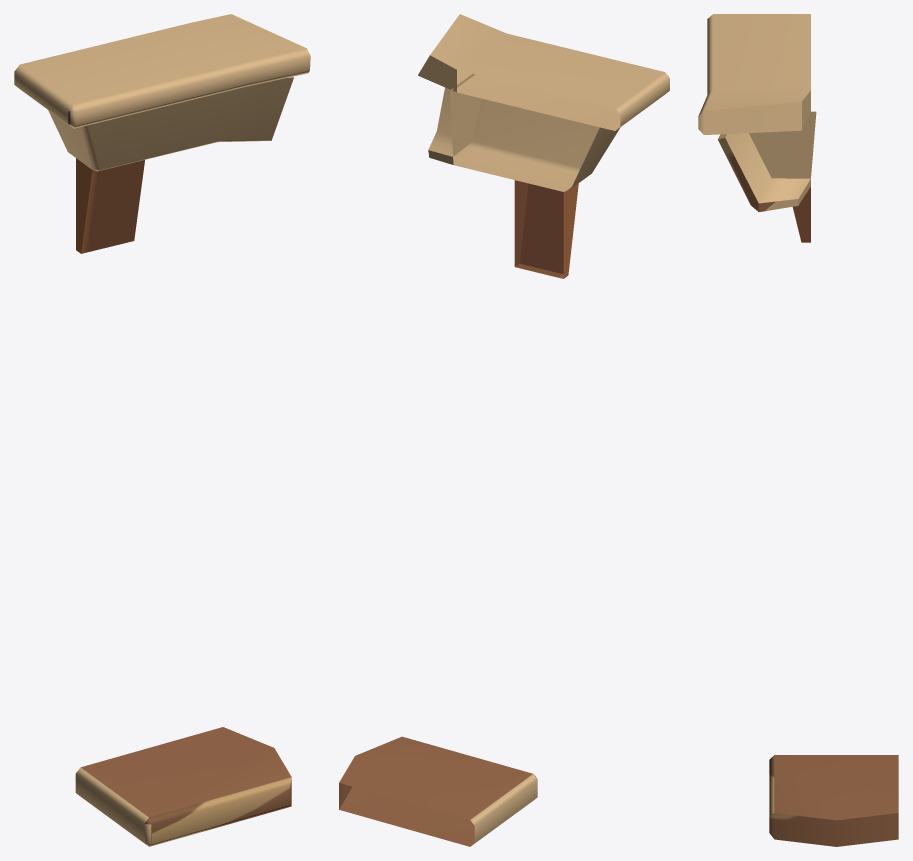
The model's file is DBK_WinSmall_Trim_B_Side.fbx.
3 renders of one model, left to right at view 1: azimuth 30°, elevation 25°; view 2: azimuth 150°, elevation 25°; view 3: azimuth 270°, elevation 25°, orthographic. The views are drawn at different scales.
Visible parts, largest first — view 1: DBK_WinSmall_Trim_B_Side; view 2: DBK_WinSmall_Trim_B_Side; view 3: DBK_WinSmall_Trim_B_Side.
Part boxes in pixels (left/top/right/bottom): DBK_WinSmall_Trim_B_Side: left=14, top=14, right=310, bottom=846; DBK_WinSmall_Trim_B_Side: left=339, top=14, right=669, bottom=846; DBK_WinSmall_Trim_B_Side: left=698, top=14, right=898, bottom=846.
Bounding box in the file's own units: 52.14 × 145 × 36.47.
